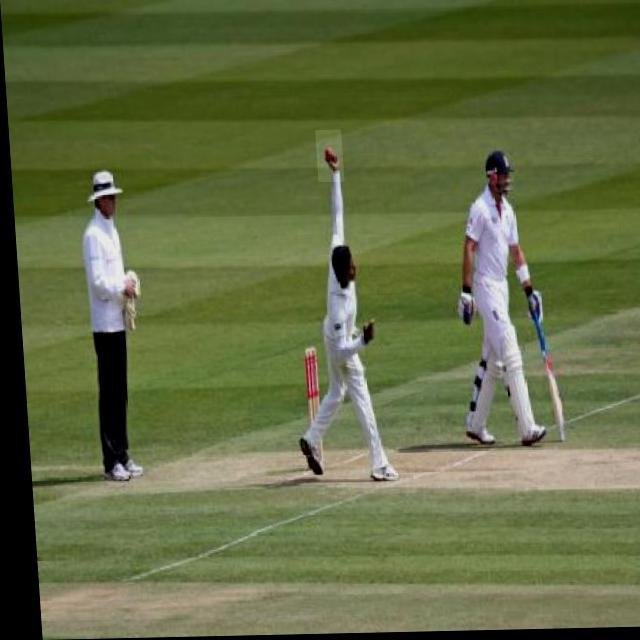-: (313, 132, 342, 184)
